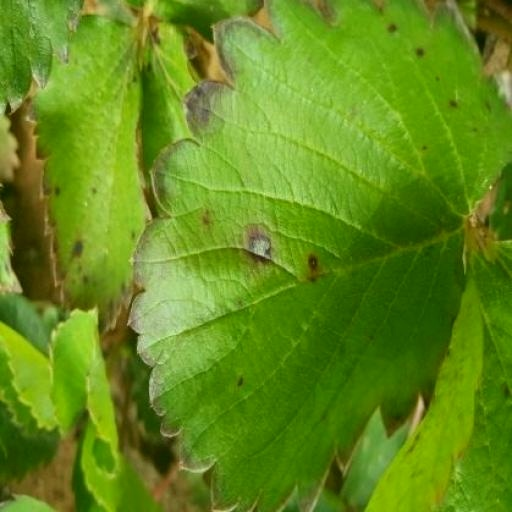Leaf Spot: (126, 0, 511, 511), (24, 167, 160, 499), (365, 0, 511, 269), (0, 392, 86, 511), (137, 339, 205, 489)
